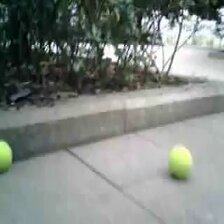tennis: (169, 147, 192, 177), (1, 138, 14, 174)
